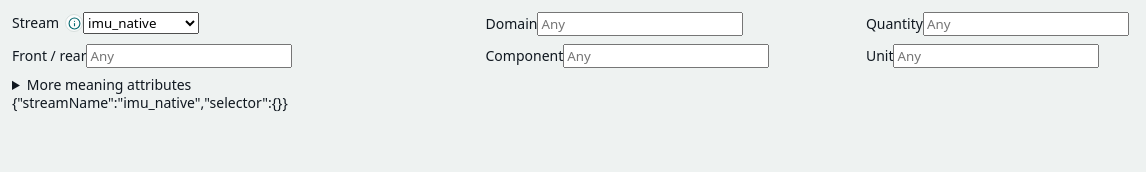
Test case: ScenarioMeaningPicker › offers metadata suggestions and removes blank constraints
Step 1. Type "motion" into the field labelled "Domain" → (640, 24), box [537,12,743,36]
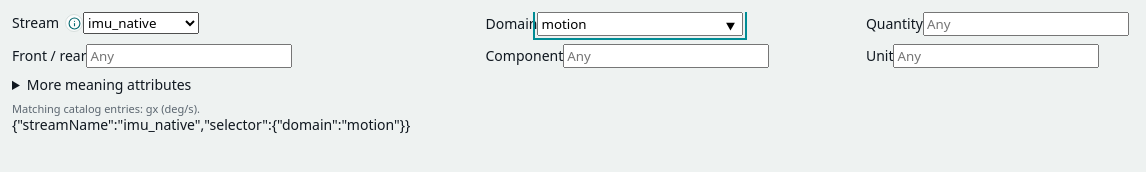
Step 2. Type "x" into the field labelled "Component" → (666, 56), box [563,44,769,68]
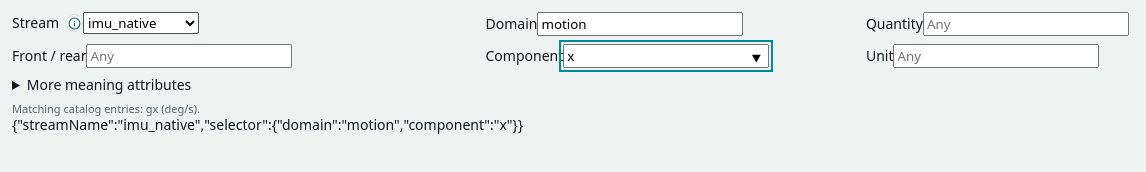
Result: the text "Matching catalog entries: gx (deg/s)." is shown at [12,102,200,116]
Step 3. Clear the field labelled "Domain" → (640, 24), box [537,12,743,36]
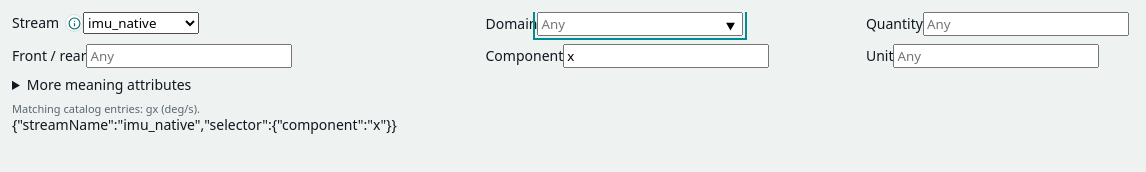
Result: the text "{\"streamName\":\"imu_native\",\"selector\":{\"component\":\"x\"}}" shows "\"selector\":{\"component\":\"x\"}" at [12,116,397,134]
